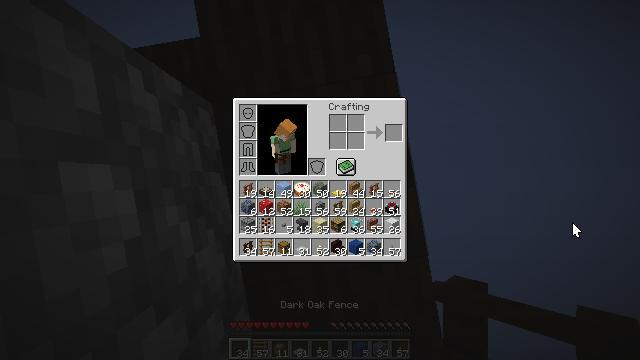cursor: (572, 222, 582, 238)
